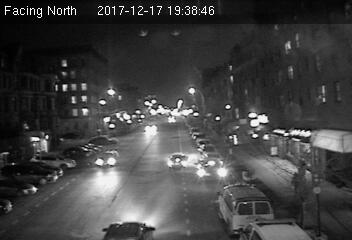car: (197, 158, 227, 180), (167, 152, 190, 172), (95, 151, 120, 167)
police: (218, 184, 274, 233)
